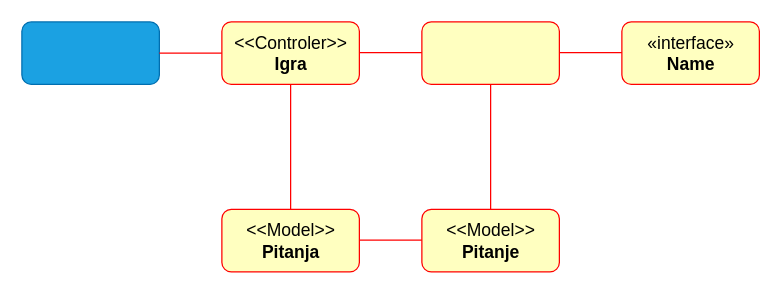
Image size: 781x294. Some labels were removed from this diagram. The box of each missing label's shape, as (x1, y1, x2, y2) in pixels:
<<Model>> Igrač: (421, 21, 559, 84)
<<View>> Prikaz igre: (21, 21, 159, 84)
